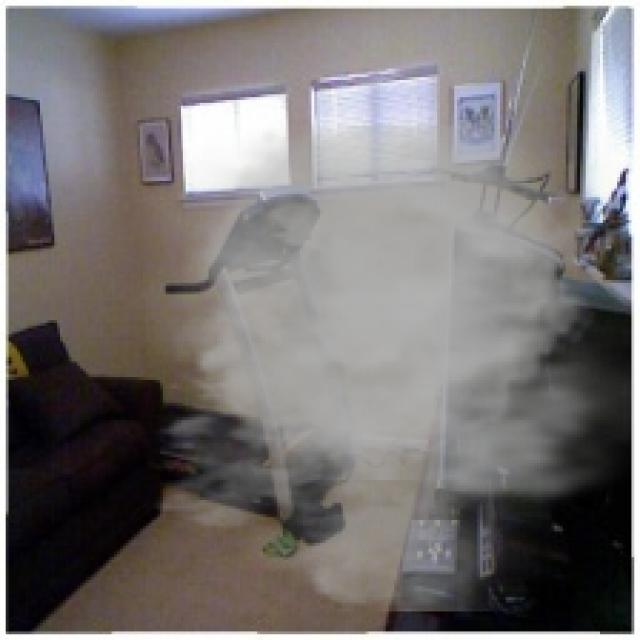smoke: (103, 94, 631, 612)
